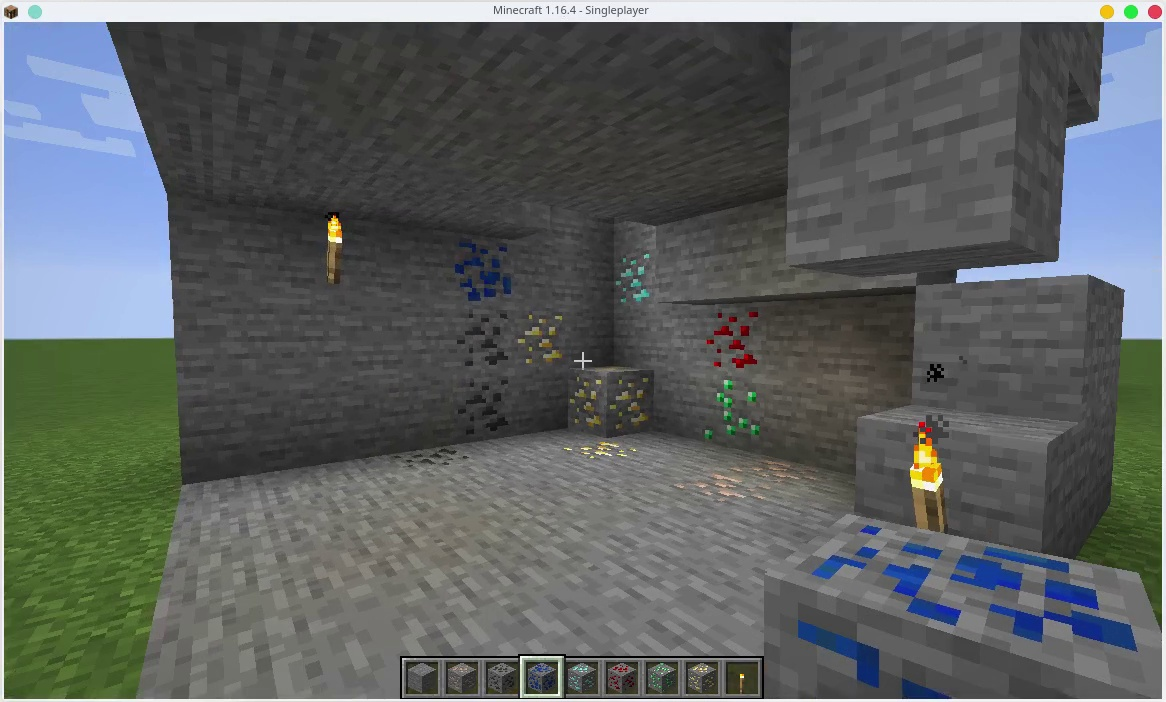gold: (569, 370, 651, 432), (511, 313, 563, 361), (569, 436, 640, 463), (684, 658, 714, 693)
